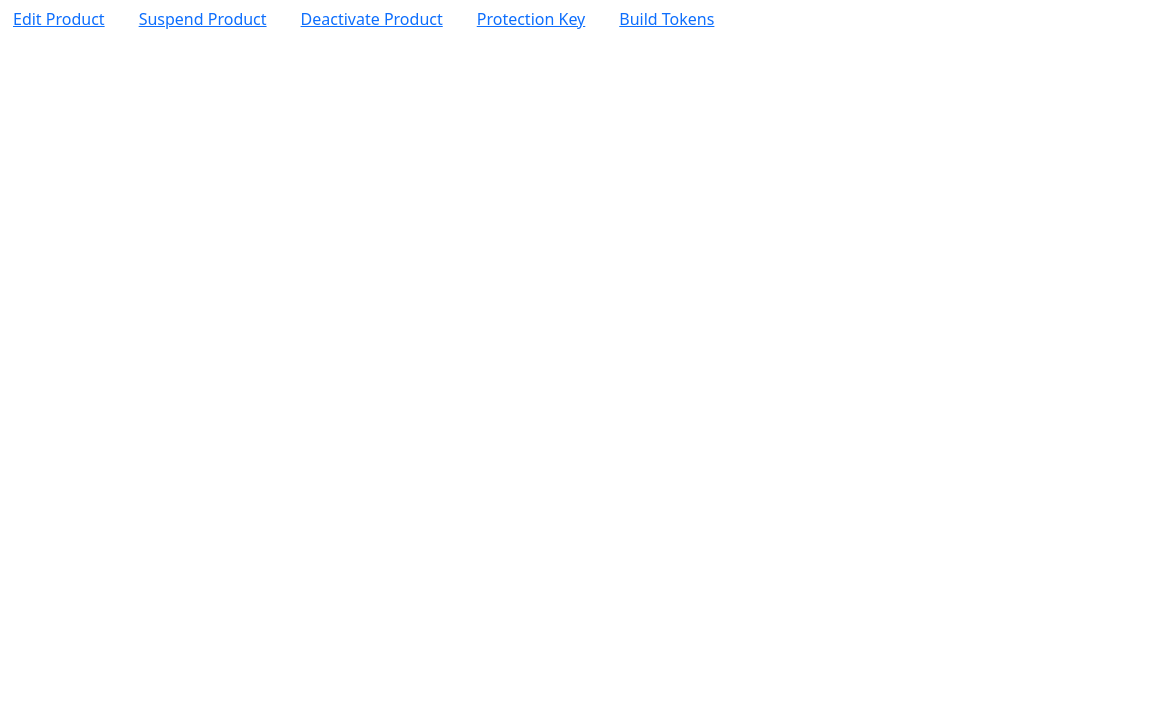
ProductRowActions › shows protection key error when product slug is missing
Click the button "Protection Key" at (531, 19), box [464, 0, 598, 38]
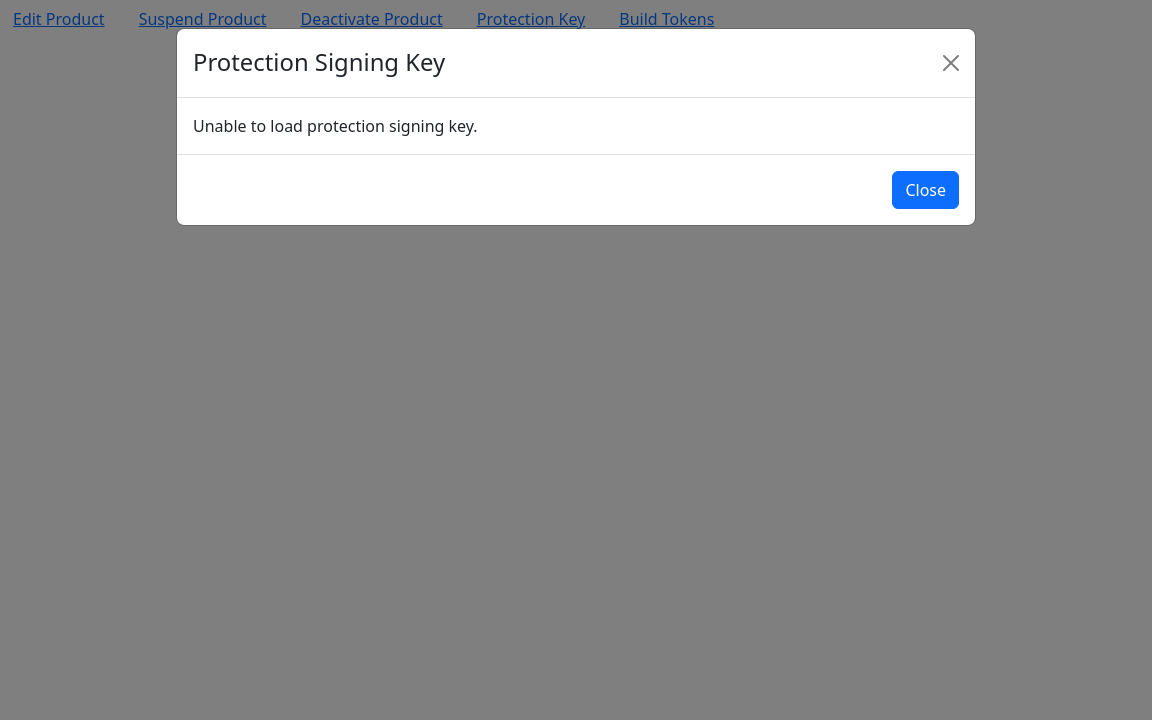
Expected: the text "Unable to load protection signing key." is shown, [193, 115, 478, 137]
